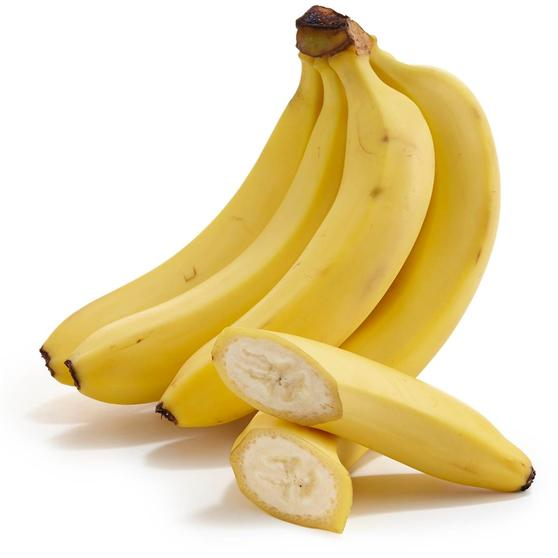banana: (19, 3, 550, 534)
